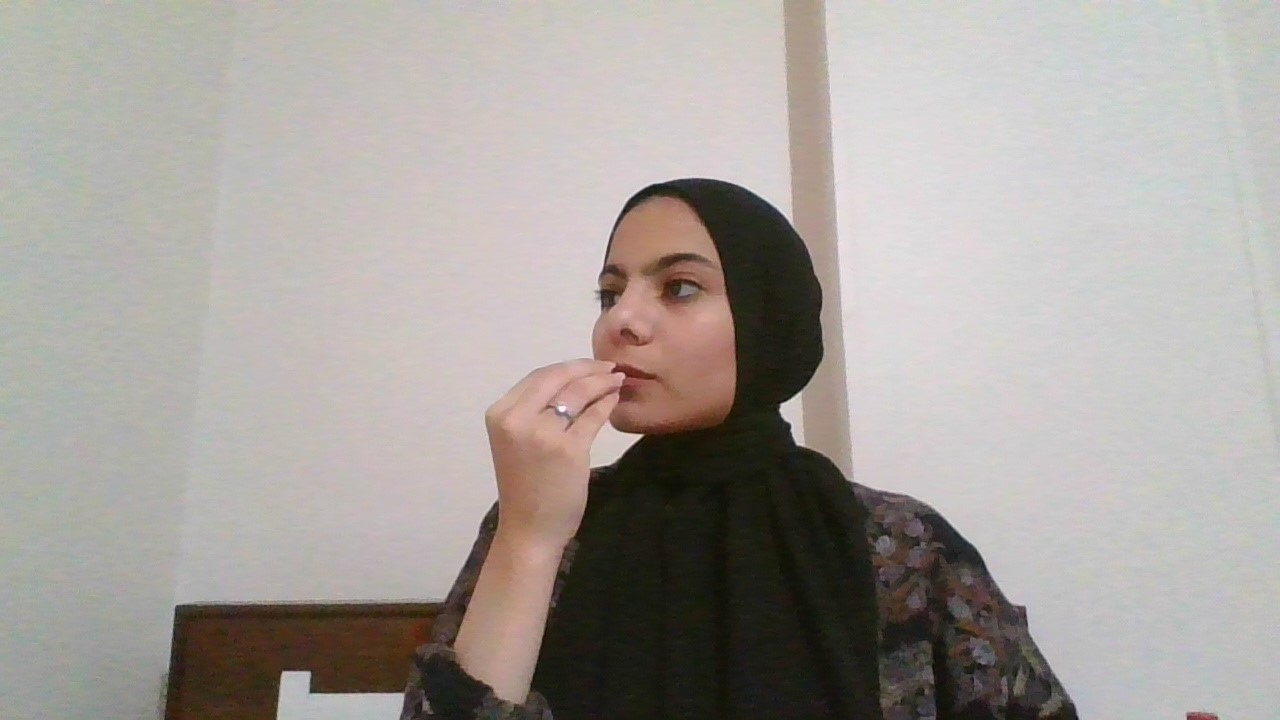eat: (468, 354, 631, 567)
